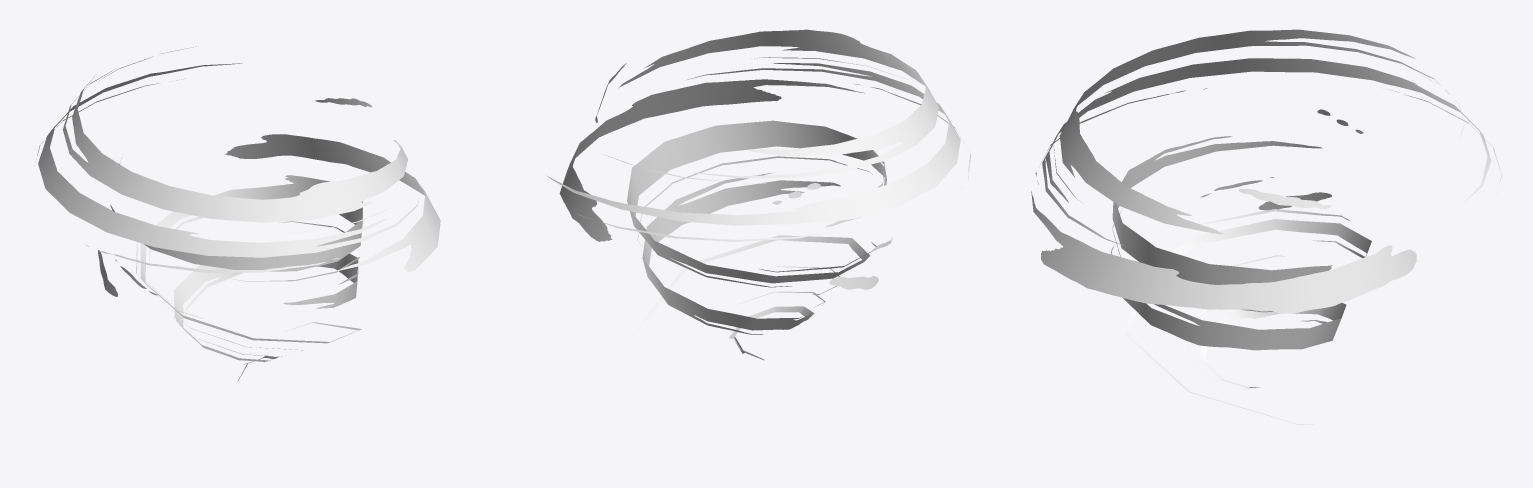
File: longjuanfeng1.FBX
3 renders of one model, left to right at view 1: azimuth 30°, elevation 25°; view 2: azimuth 150°, elevation 25°; view 3: azimuth 270°, elevation 25°, orthographic. The views are drawn at different scales.
Parts seen in each view (by area): view 1: longjianfeng1; view 2: longjianfeng1; view 3: longjianfeng1.
Part boxes in pixels (x1,y1,x2,y2): longjianfeng1: (35,46,440,380); longjianfeng1: (546,29,971,360); longjianfeng1: (1031,29,1502,424).
Bounding box in the file's own units: 2.77 × 2.8 × 2.62.
